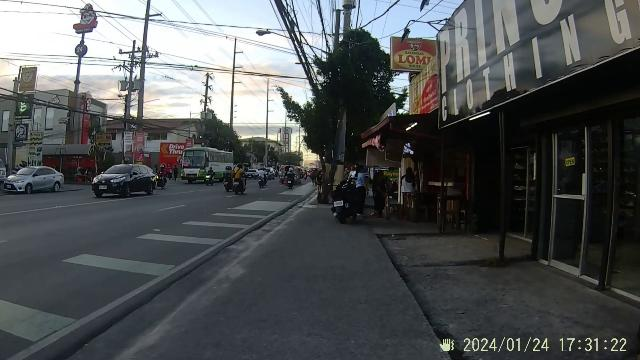utility_post: (225, 33, 245, 126)
